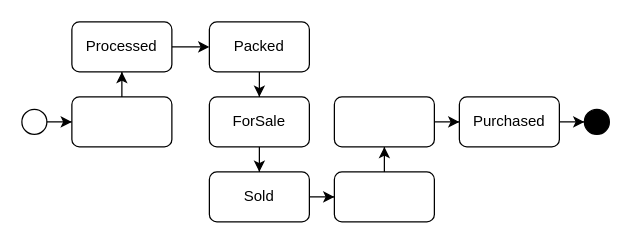
The diagram is 631 pixels wide and 244 high, and some of its shapes have lost their labels. The centre of each missing label's shape, as x and y in pixels:
Harvested: (121,121)
Received: (383,121)
Shipped: (383,196)
